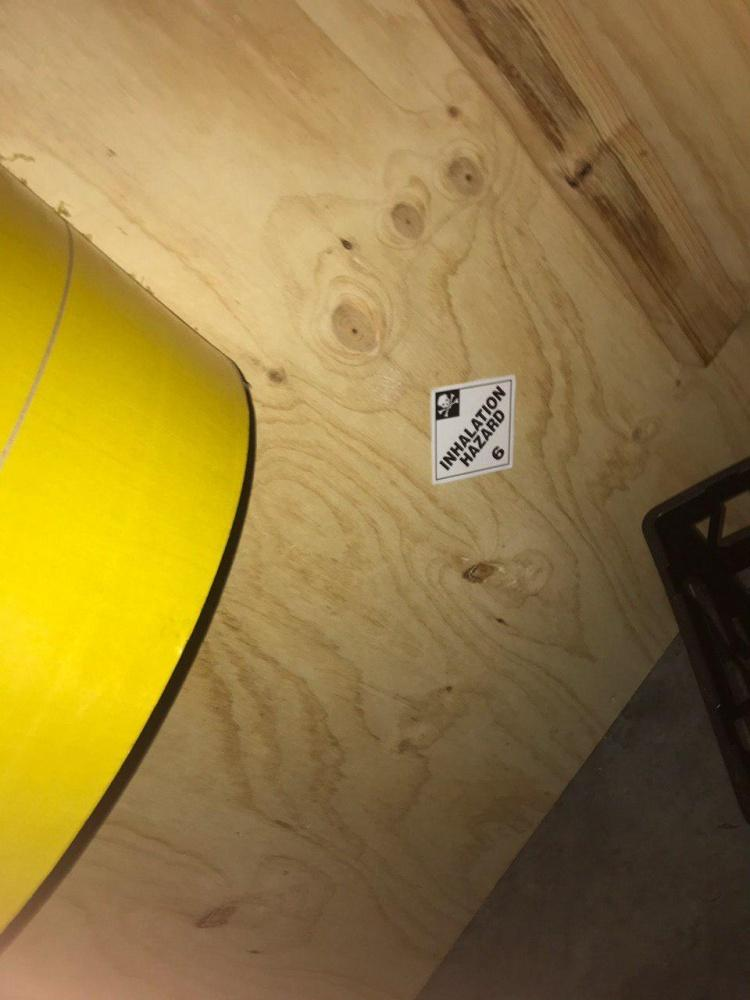poison: (432, 378, 521, 487)
